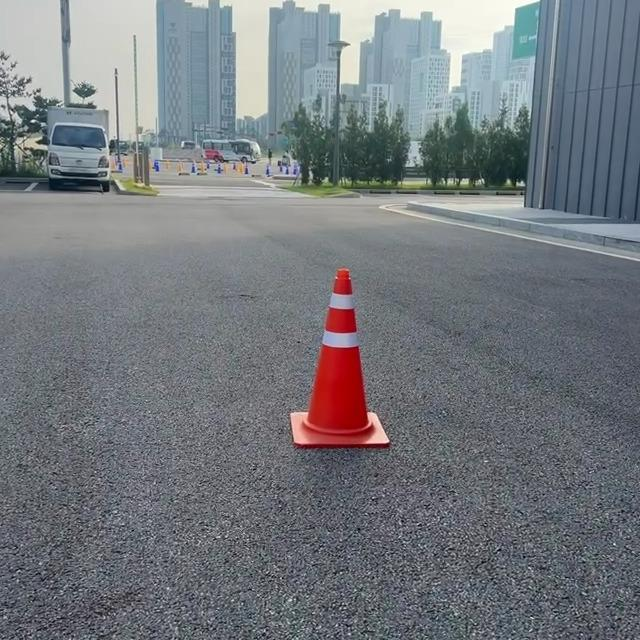fallen_object: (267, 250, 458, 475)
